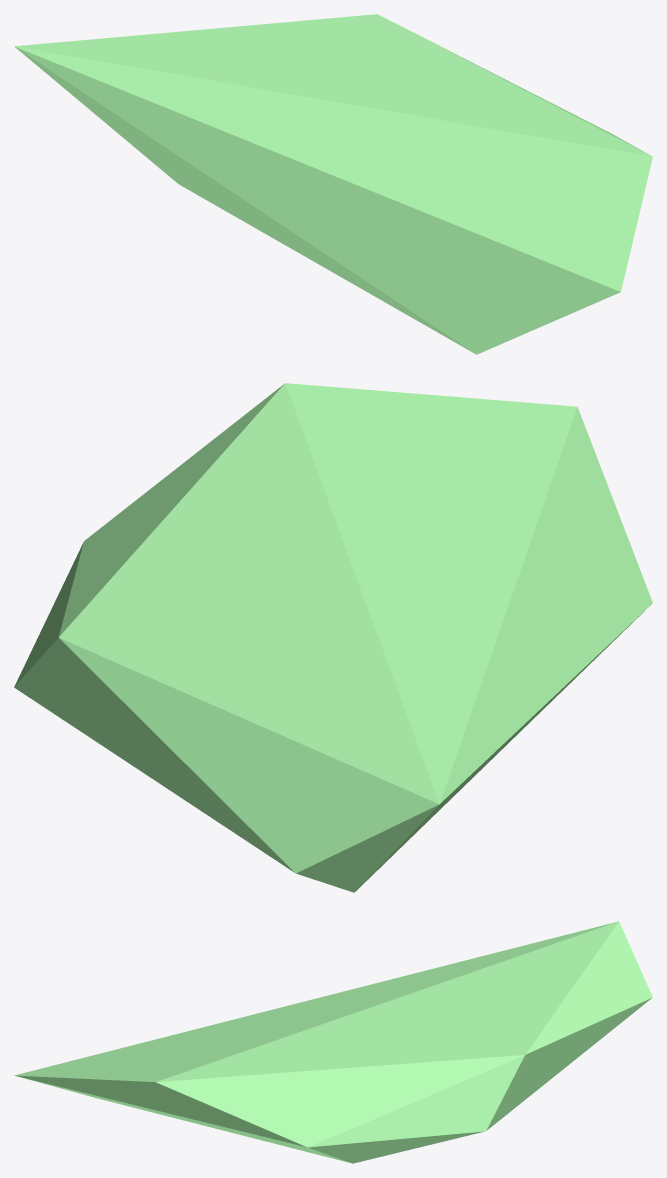
Rendered from xarm7_with_gripper_LR4_R560_link3_respondable_coll_2.dae.
The picture shows the model from 3 angles, top to bottom: view 1: azimuth 30°, elevation 25°; view 2: azimuth 150°, elevation 25°; view 3: azimuth 270°, elevation 25°; orthographic projection. The views are drawn at different scales.
Visible parts, largest first — view 1: Node_000001B89B5E6480; view 2: Node_000001B89B5E6480; view 3: Node_000001B89B5E6480.
Part boxes in pixels (bbox=[...]): Node_000001B89B5E6480: bbox=[14, 14, 652, 354]; Node_000001B89B5E6480: bbox=[14, 383, 652, 892]; Node_000001B89B5E6480: bbox=[14, 921, 652, 1163].
Bounding box in the file's own units: 0.0469 × 0.014 × 0.0717.
